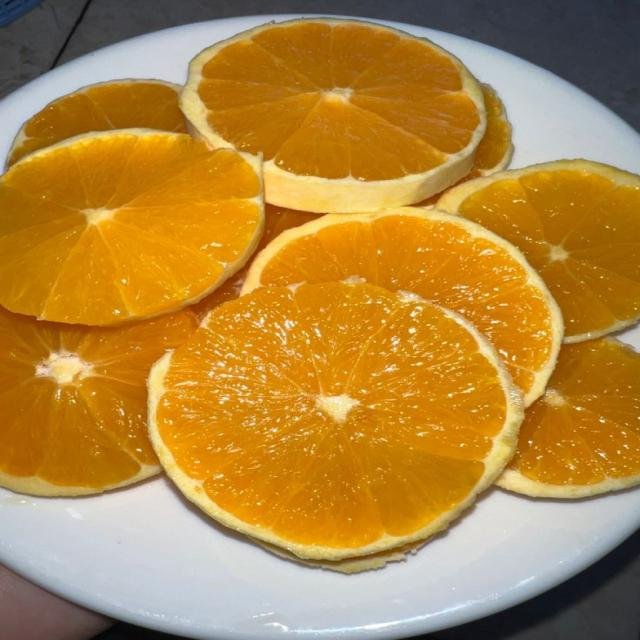orange: (149, 283, 522, 560), (243, 208, 562, 404), (180, 18, 486, 212), (0, 130, 263, 325), (0, 308, 197, 495), (437, 160, 639, 341), (499, 338, 639, 497), (7, 79, 186, 168), (458, 84, 513, 183), (254, 204, 320, 255)
